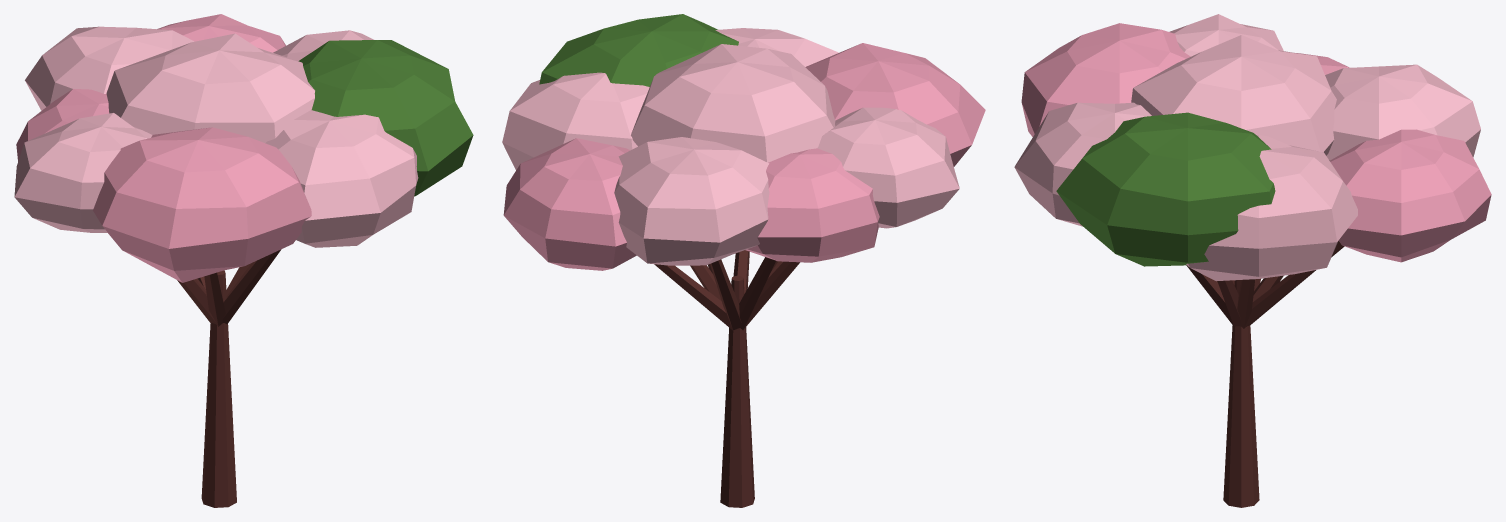
Rendered from tree_cherry_small.glb.
3 renders of one model, left to right at view 1: azimuth 30°, elevation 25°; view 2: azimuth 150°, elevation 25°; view 3: azimuth 270°, elevation 25°, orthographic. The views are drawn at different scales.
Visible parts, largest first — view 1: tree_cherry_small; view 2: tree_cherry_small; view 3: tree_cherry_small.
Part boxes in pixels (x1=…): tree_cherry_small: x1=14, y1=14, x2=473, y2=507; tree_cherry_small: x1=502, y1=14, x2=985, y2=507; tree_cherry_small: x1=1014, y1=14, x2=1491, y2=507.
Size of the model in its own units: 4.19 by 4.26 by 4.15.
